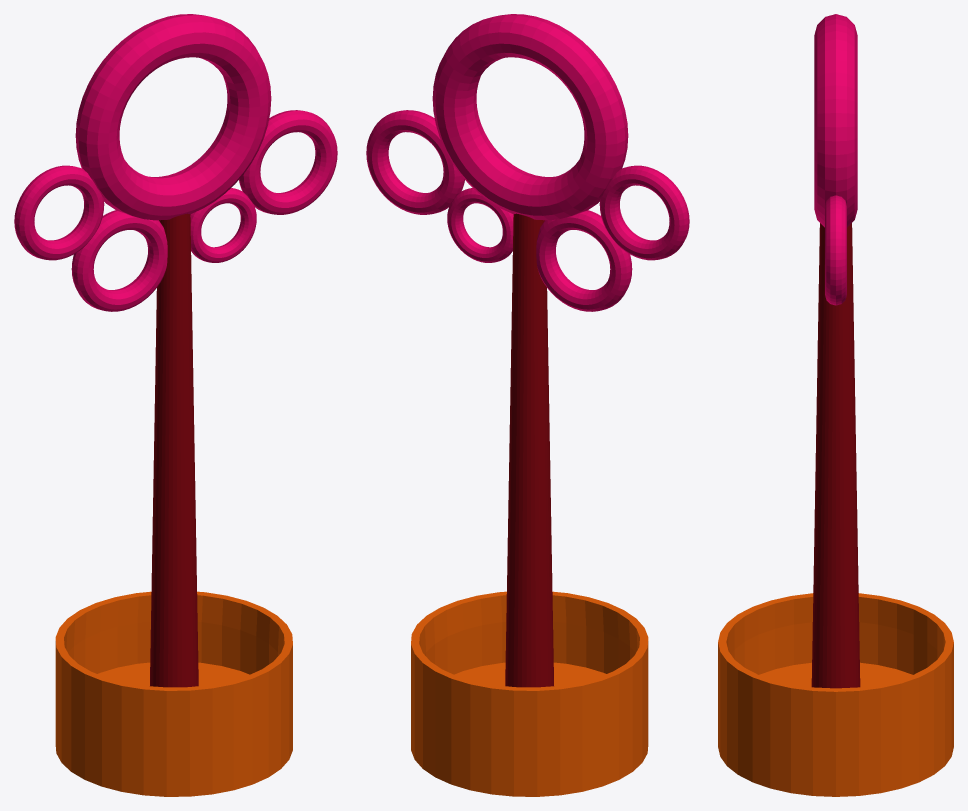
The model's file is ShootGunWeapon.fbx.
3 views of the same model, side by side, from view 1: azimuth 30°, elevation 25°; view 2: azimuth 150°, elevation 25°; view 3: azimuth 270°, elevation 25° (orthographic).
Parts seen in each view (by area): view 1: Cylinder.003, Torus.003, Torus.005, Torus.004, Torus.007, Torus.006; view 2: Cylinder.003, Torus.003, Torus.005, Torus.004, Torus.007, Torus.006; view 3: Cylinder.003, Torus.003, Torus.005.
Boxes of the visible parts, bbox=[...] form: Cylinder.003: bbox=[55, 213, 292, 796]; Torus.003: bbox=[75, 14, 271, 220]; Torus.005: bbox=[239, 110, 337, 214]; Torus.004: bbox=[71, 210, 167, 311]; Torus.007: bbox=[14, 165, 104, 260]; Torus.006: bbox=[190, 188, 256, 262]; Cylinder.003: bbox=[411, 213, 648, 796]; Torus.003: bbox=[432, 14, 628, 220]; Torus.005: bbox=[366, 110, 464, 214]; Torus.004: bbox=[536, 210, 632, 311]; Torus.007: bbox=[599, 165, 689, 260]; Torus.006: bbox=[447, 188, 513, 262]; Cylinder.003: bbox=[718, 223, 953, 796]; Torus.003: bbox=[814, 14, 857, 227]; Torus.005: bbox=[825, 195, 846, 305].
Bounding box in the file's own units: 1424 × 3097 × 916.
